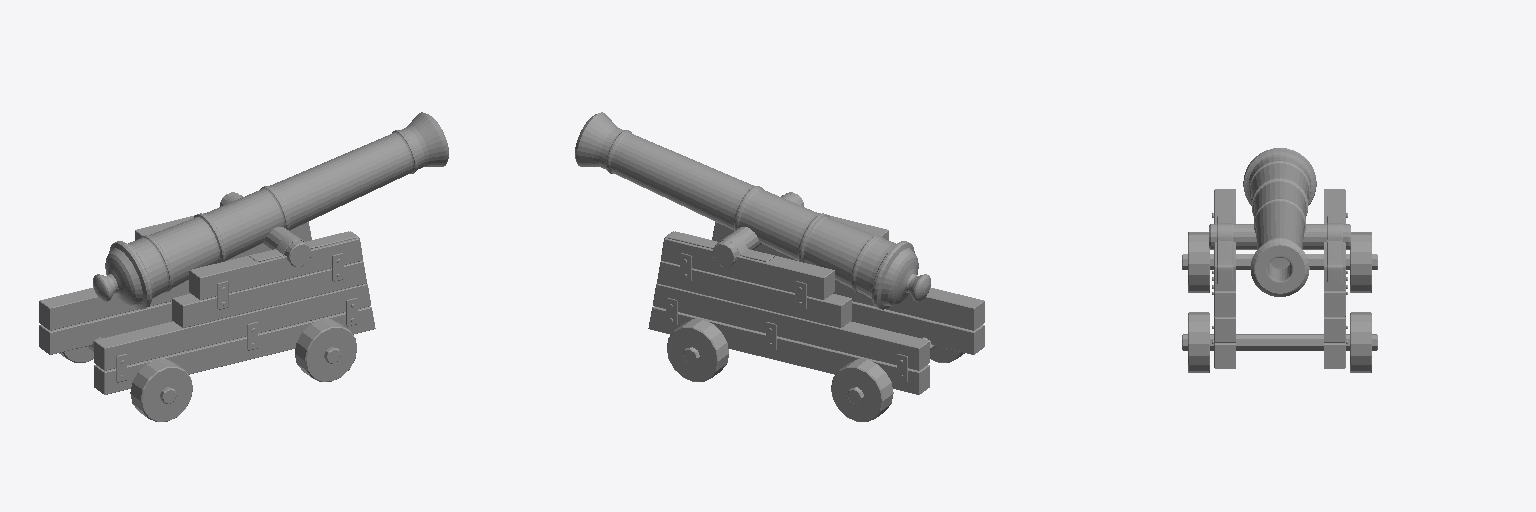
Rendered from CannonDOWN.obj.
The picture shows the model from 3 angles: view 1: azimuth 30°, elevation 25°; view 2: azimuth 150°, elevation 25°; view 3: azimuth 270°, elevation 25°; orthographic projection.
Parts seen in each view (by area): view 1: Cylinder.002; view 2: Cylinder.002; view 3: Cylinder.002.
Boxes of the visible parts, x1=… form: Cylinder.002: x1=39, y1=112, x2=448, y2=421; Cylinder.002: x1=575, y1=112, x2=984, y2=421; Cylinder.002: x1=1182, y1=148, x2=1377, y2=372.
Size of the model in its own units: 7.13 by 3.69 by 3.27.